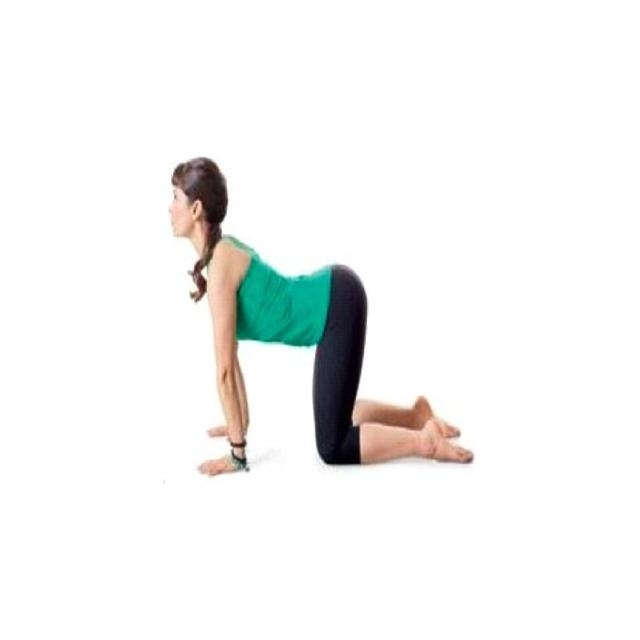Cow_Pose: (168, 158, 474, 477)
